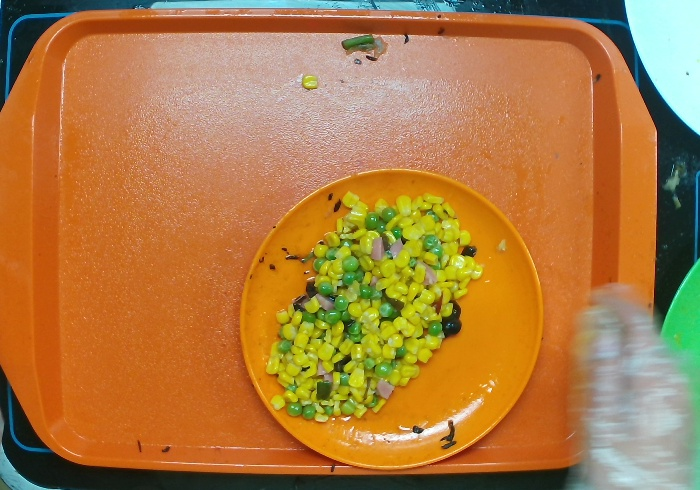HZYJPL-Ju_Huang_Yuan_Pan: (239, 169, 544, 474)
